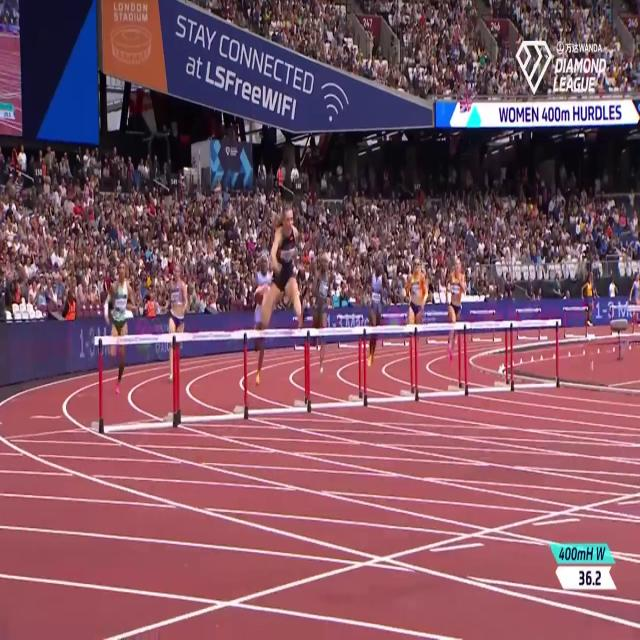athlete: (256, 196, 314, 334), (101, 251, 130, 399), (250, 246, 276, 388), (400, 254, 432, 366), (366, 246, 390, 377), (311, 250, 336, 374), (166, 262, 187, 386), (449, 253, 464, 355)
hurdle: (94, 325, 180, 434), (174, 325, 246, 420), (246, 321, 310, 414), (305, 324, 367, 411), (405, 316, 465, 400), (359, 322, 417, 406), (465, 312, 513, 406), (509, 315, 565, 390)
